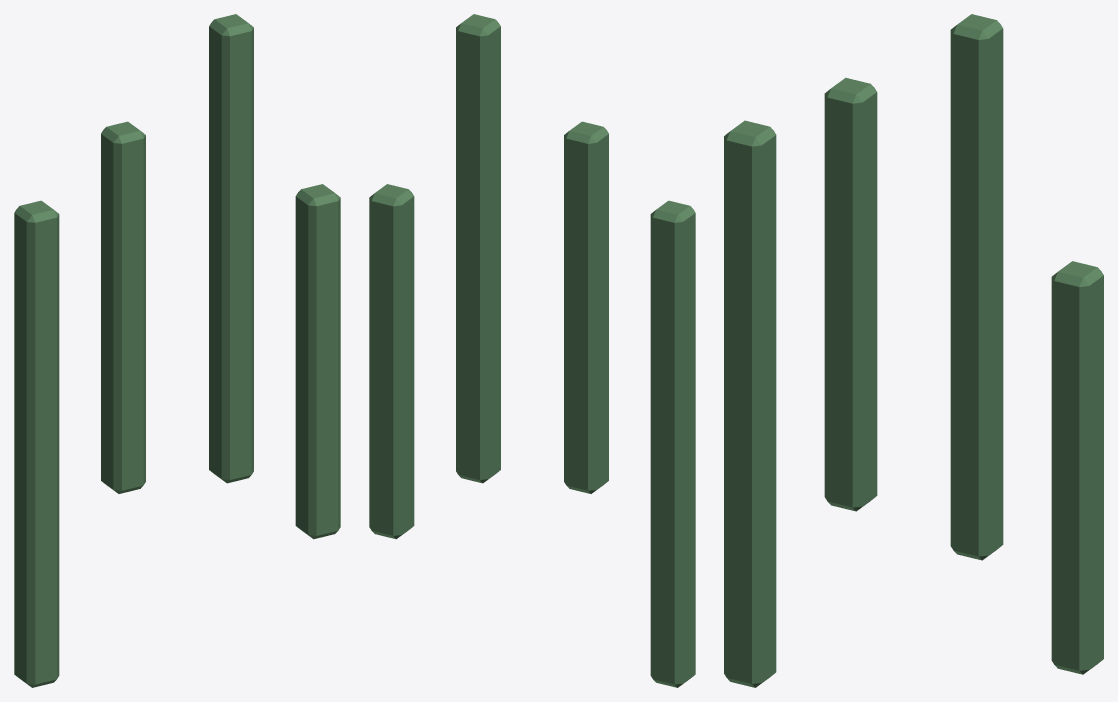
The model's file is wall_vines.glb.
The picture shows the model from 3 angles, left to right: view 1: azimuth 30°, elevation 25°; view 2: azimuth 150°, elevation 25°; view 3: azimuth 330°, elevation 25°; orthographic projection. The views are drawn at different scales.
Parts seen in each view (by area): view 1: wall_vines.001; view 2: wall_vines.001; view 3: wall_vines.001.
Boxes of the visible parts, box(x1,y1,x2,y2) form: wall_vines.001: box(14, 14, 340, 687); wall_vines.001: box(369, 14, 695, 687); wall_vines.001: box(724, 14, 1103, 687).
Bounding box in the file's own units: 1.45 × 2.7 × 0.15.
